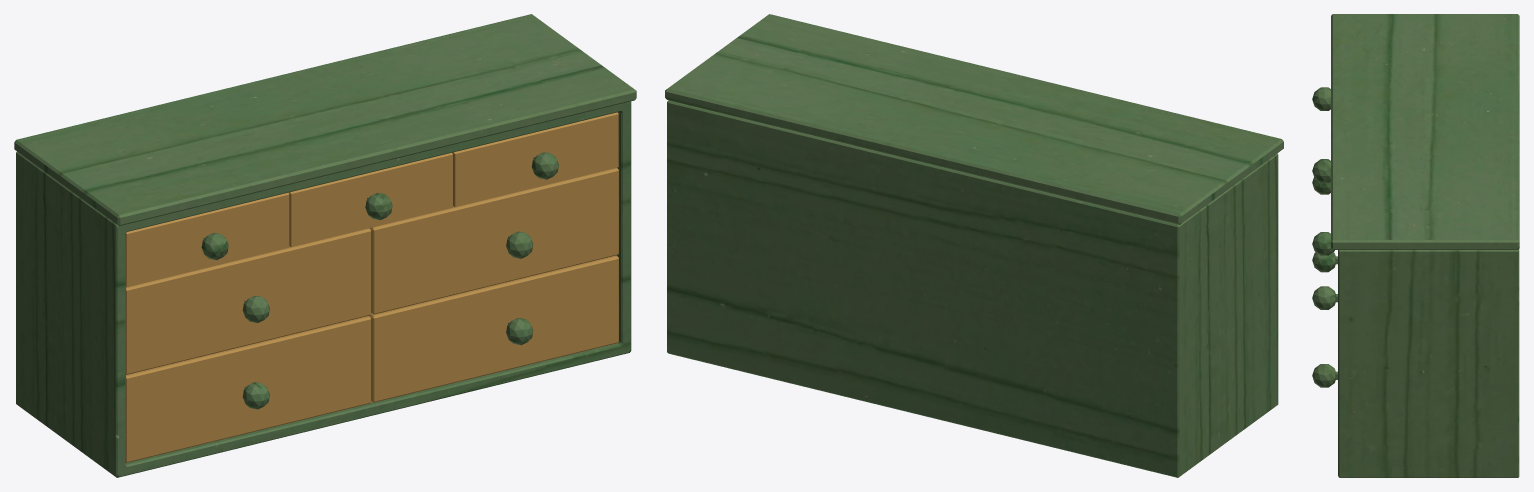
File: commode2.fbx
The picture shows the model from 3 angles, left to right: view 1: azimuth 30°, elevation 25°; view 2: azimuth 150°, elevation 25°; view 3: azimuth 270°, elevation 25°; orthographic projection. The views are drawn at different scales.
Visible parts, largest first — view 1: Drawer A, Drawer A.007, Drawer A.004, Drawer A.006, Drawer A.005, Drawer A.003, Drawer A.002, Drawer A.001; view 2: Drawer A; view 3: Drawer A, Drawer A.007, Drawer A.004, Drawer A.006, Drawer A.003, Drawer A.001, Drawer A.002.
Boxes of the visible parts, x1,y1,x2,y2 form: Drawer A: (14, 14, 636, 477); Drawer A.007: (369, 255, 618, 402); Drawer A.004: (369, 167, 618, 314); Drawer A.006: (126, 316, 371, 462); Drawer A.005: (126, 228, 371, 374); Drawer A.003: (452, 112, 618, 207); Drawer A.002: (288, 152, 452, 247); Drawer A.001: (126, 192, 289, 287); Drawer A: (665, 14, 1283, 477); Drawer A: (1331, 14, 1519, 477); Drawer A.007: (1312, 364, 1337, 387); Drawer A.004: (1312, 286, 1337, 309); Drawer A.006: (1312, 252, 1337, 272); Drawer A.003: (1312, 232, 1334, 255); Drawer A.001: (1312, 87, 1330, 110); Drawer A.002: (1312, 159, 1330, 182).
Size of the model in its own units: 618 by 302 by 238.
